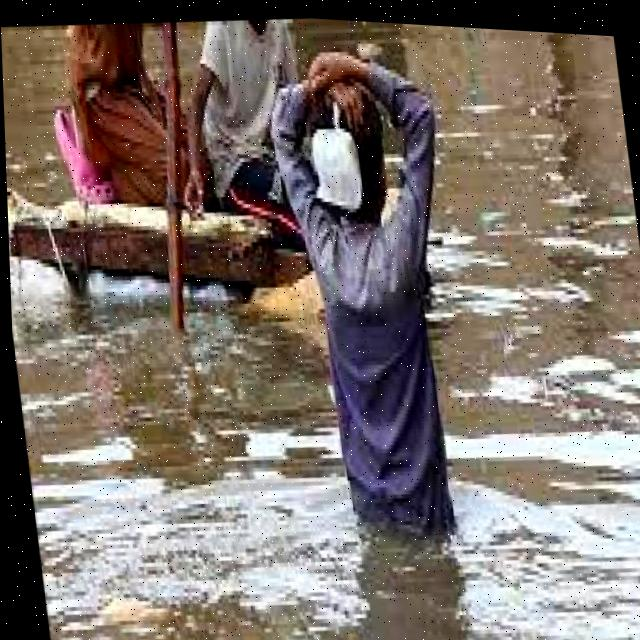civilian: (241, 26, 505, 574)
